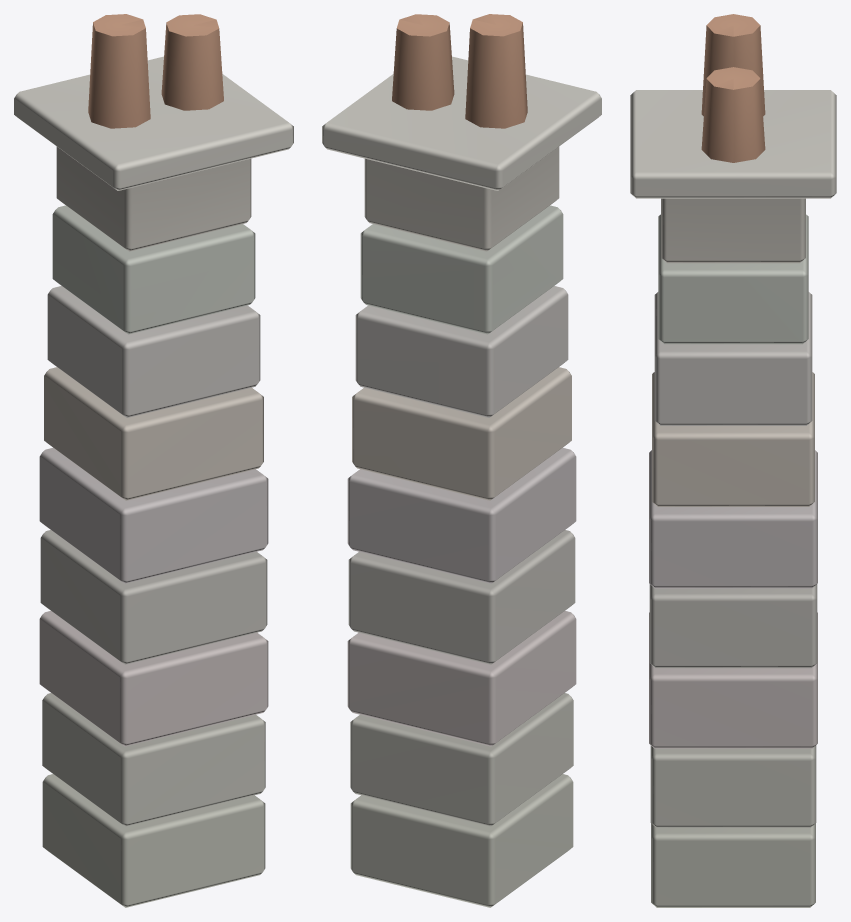
The model's file is stone-chimney.glb.
3 renders of one model, left to right at view 1: azimuth 30°, elevation 25°; view 2: azimuth 150°, elevation 25°; view 3: azimuth 270°, elevation 25°, orthographic.
Parts seen in each view (by area): view 1: body; view 2: body; view 3: body.
Boxes of the visible parts, box(x1,y1,x2,y2) form: body: box(14, 14, 293, 907); body: box(322, 14, 601, 907); body: box(630, 14, 836, 907).
Size of what is drawn, in the model's own units: 0.42 by 1.87 by 0.42.
